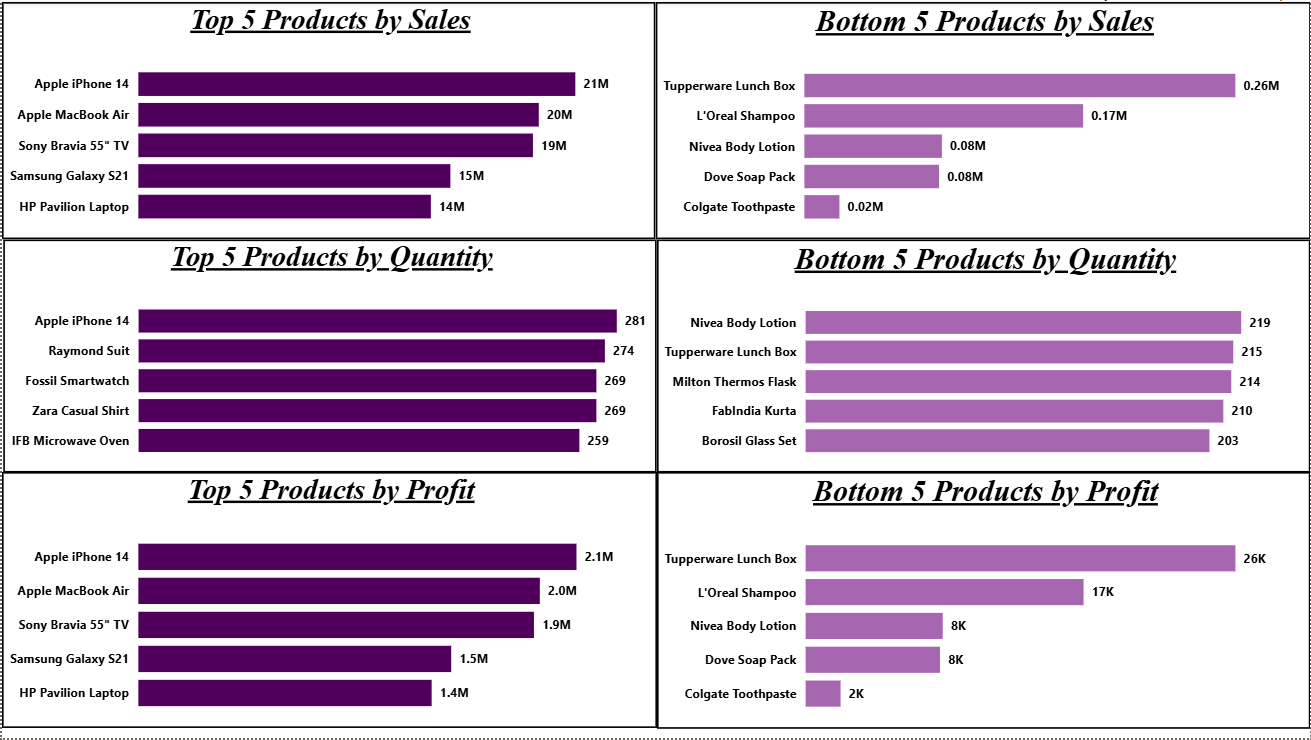

This screenshot's page, from the dashboard's own definition file:
{"tool":"powerbi","page":{"name":"Top/Bottom 5 Analysis","canvas":[1280,720],"ordinal":1},"visuals":[{"type":"barChart","title":"Top 5 Products by Sales","fields":{"Category":["Dim Product.Product Name"],"Y":["Sum(Fact Table.Net Sales  )"]},"box":[-0.1,0,639.5,231.9],"z":0},{"type":"barChart","title":"Bottom 5 Products by Sales","fields":{"Category":["Dim Product.Product Name"],"Y":["Sum(Fact Table.Net Sales  )"]},"box":[639.3,0,640.8,231.9],"z":1000},{"type":"barChart","title":"Top 5 Products by Quantity","fields":{"Category":["Dim Product.Product Name"],"Y":["Sum(Fact Table.Units Sold)"]},"box":[1.4,231.9,639.5,227.8],"z":2000},{"type":"barChart","title":"Bottom 5 Products by Quantity","fields":{"Category":["Dim Product.Product Name"],"Y":["Sum(Fact Table.Units Sold)"]},"box":[640.8,231.9,639.5,227.8],"z":3000},{"type":"barChart","title":"Top 5 Products by Profit","fields":{"Category":["Dim Product.Product Name"],"Y":["Sum(Fact Table.Profit)"]},"box":[0,459.8,640.8,250.7],"z":4000},{"type":"barChart","title":"Bottom 5 Products by Profit","fields":{"Category":["Dim Product.Product Name"],"Y":["Sum(Fact Table.Profit)"]},"box":[640.8,459.7,639.5,251.1],"z":5000}]}

Visuals, with their boxes in screenshot pixels (x1, y1, x2, y2), scaled from the page's 1280x720 canvas onto the 1311x740 screenshot:
"Top 5 Products by Sales" barChart: (0, 0, 655, 238)
"Bottom 5 Products by Sales" barChart: (655, 0, 1310, 238)
"Top 5 Products by Quantity" barChart: (1, 238, 656, 472)
"Bottom 5 Products by Quantity" barChart: (656, 238, 1310, 472)
"Top 5 Products by Profit" barChart: (0, 473, 656, 730)
"Bottom 5 Products by Profit" barChart: (656, 472, 1310, 731)
